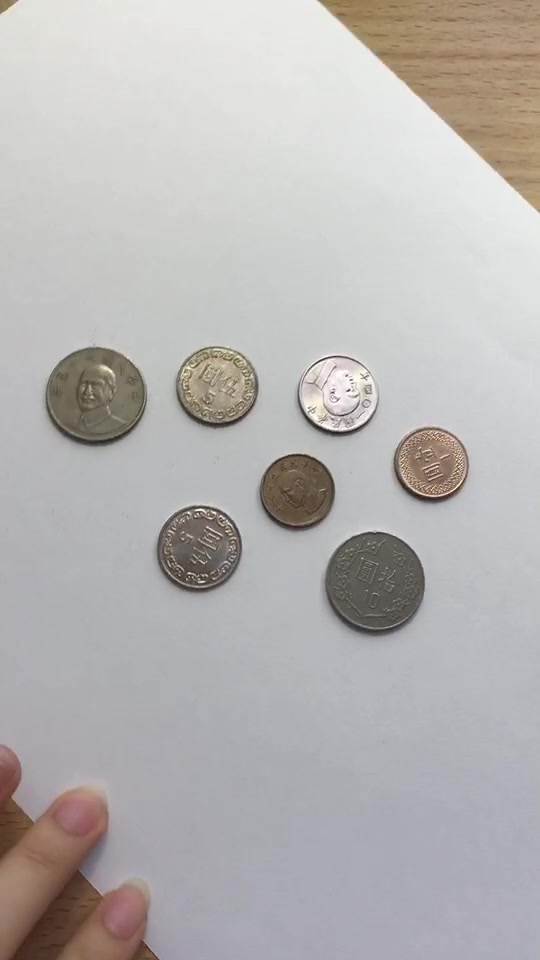1 dallar: (254, 447, 341, 534), (386, 422, 473, 509)
10 dallar: (40, 339, 148, 450), (320, 528, 428, 639)
5 dallar: (147, 501, 248, 594), (165, 343, 266, 436), (286, 348, 387, 441)
